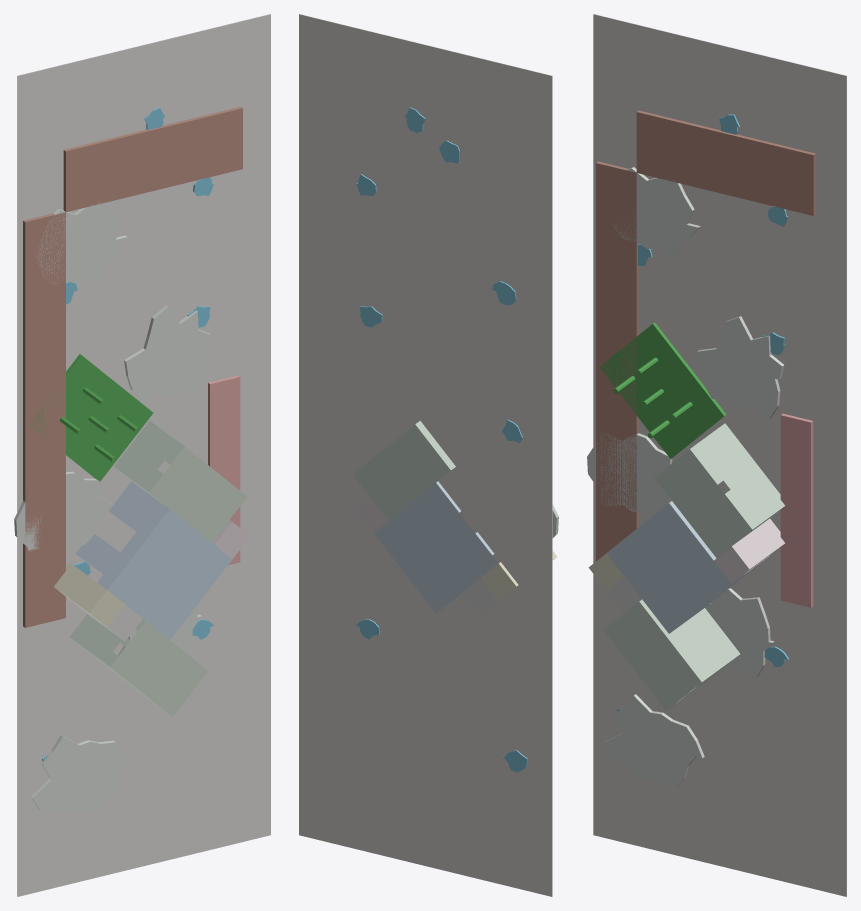
Rendered from tiny_house.glb.
3 views of the same model, side by side, from view 1: azimuth 30°, elevation 25°; view 2: azimuth 150°, elevation 25°; view 3: azimuth 330°, elevation 25° (orthographic).
Visible parts, largest first — view 1: lote, bet_em_l, sala_central, dormitorio_leste, dormitorio_oeste, circulo_bananeiras, jardim_3, jardim_0, jardim_4, wetland, jardim_2, capsula_miccao (+3 smaller); view 2: lote, sala_central, dormitorio_leste, capsula_miccao, capsula_defecacao, capsula_abluicao; view 3: lote, bet_em_l, dormitorio_leste, sala_central, dormitorio_oeste, circulo_bananeiras, wetland, jardim_3, jardim_0, jardim_2, jardim_4, jardim_1 (+3 smaller).
Boxes of the visible parts, x1=… form: lote: x1=17, y1=14, x2=270, y2=896; bet_em_l: x1=23, y1=106, x2=242, y2=627; sala_central: x1=75, y1=481, x2=232, y2=639; dormitorio_leste: x1=114, y1=420, x2=247, y2=542; dormitorio_oeste: x1=69, y1=614, x2=208, y2=716; circulo_bananeiras: x1=29, y1=354, x2=153, y2=481; jardim_3: x1=124, y1=305, x2=211, y2=401; jardim_0: x1=31, y1=735, x2=131, y2=813; jardim_4: x1=36, y1=202, x2=127, y2=284; wetland: x1=208, y1=375, x2=240, y2=565; jardim_2: x1=14, y1=471, x2=113, y2=551; capsula_miccao: x1=54, y1=562, x2=124, y2=627; lote: x1=299, y1=14, x2=552, y2=896; sala_central: x1=373, y1=481, x2=498, y2=613; dormitorio_leste: x1=352, y1=420, x2=455, y2=520; capsula_miccao: x1=481, y1=551, x2=557, y2=600; capsula_defecacao: x1=463, y1=578, x2=498, y2=614; capsula_abluicao: x1=356, y1=498, x2=388, y2=532; lote: x1=593, y1=14, x2=846, y2=896; bet_em_l: x1=596, y1=110, x2=815, y2=561; dormitorio_leste: x1=654, y1=423, x2=784, y2=558; sala_central: x1=606, y1=501, x2=769, y2=633; dormitorio_oeste: x1=603, y1=599, x2=740, y2=710; circulo_bananeiras: x1=599, y1=322, x2=726, y2=458; wetland: x1=780, y1=413, x2=813, y2=607; jardim_3: x1=697, y1=316, x2=784, y2=419; jardim_0: x1=604, y1=694, x2=704, y2=787; jardim_2: x1=587, y1=431, x2=672, y2=513; jardim_4: x1=611, y1=167, x2=700, y2=259; jardim_1: x1=705, y1=588, x2=774, y2=677.
Bounding box in the file's own units: 10.16 × 31 × 3.2.
